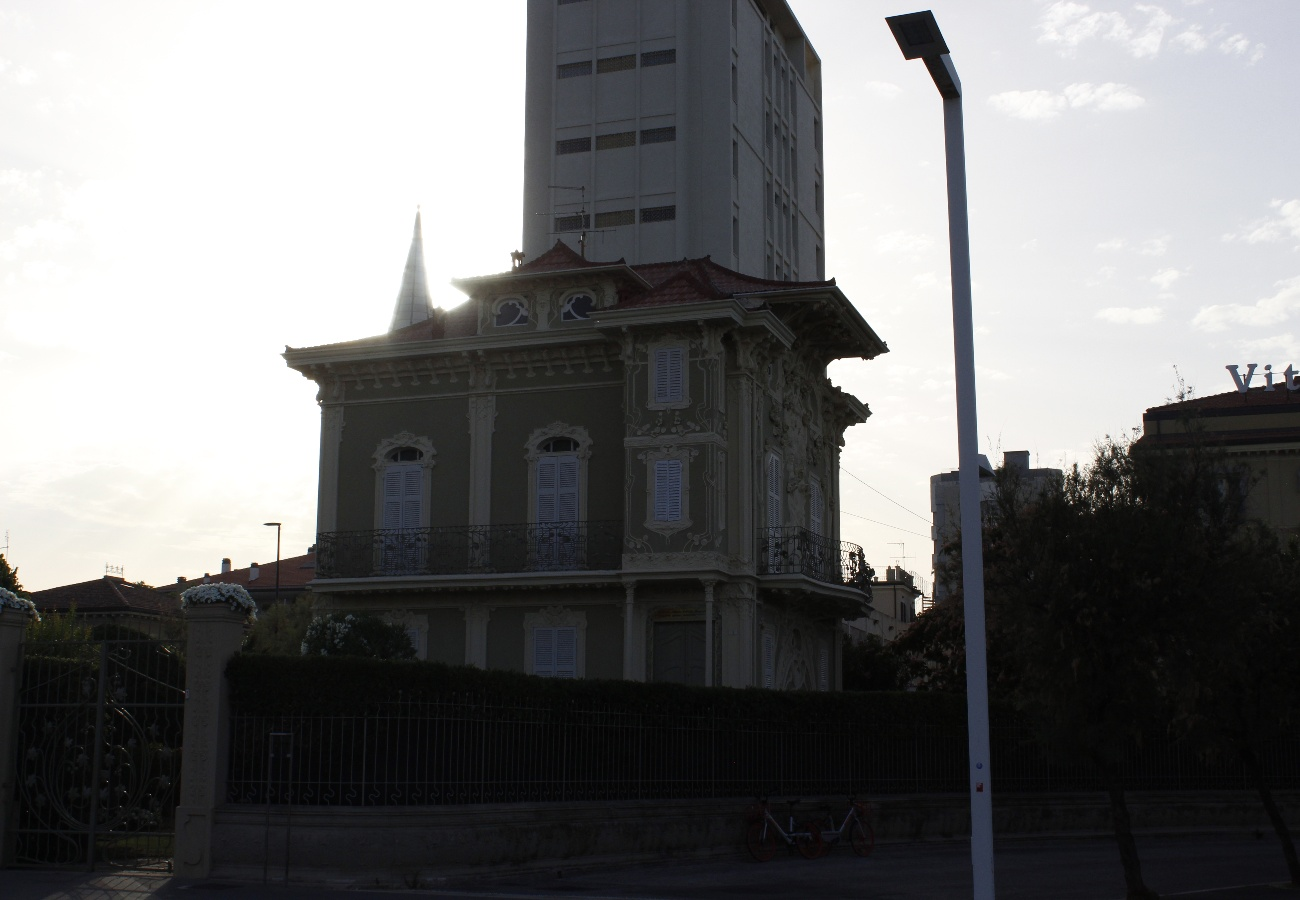Villino Ruggeri: (282, 210, 891, 721)
